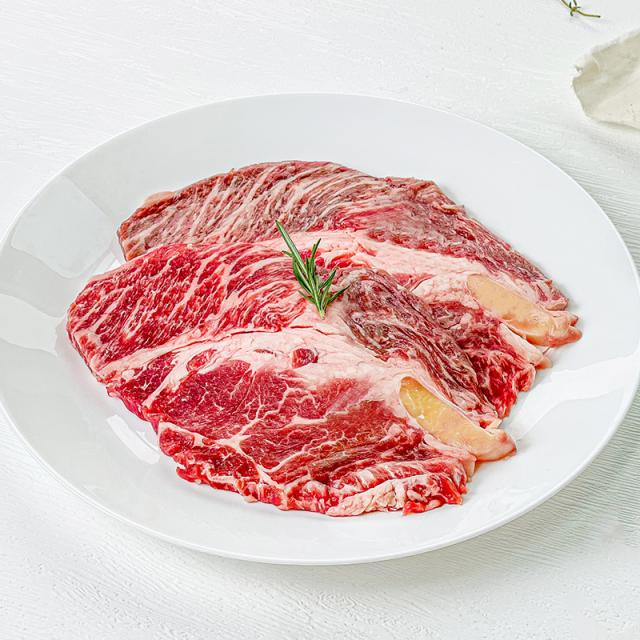beef: (157, 224, 296, 452), (366, 254, 498, 451)
